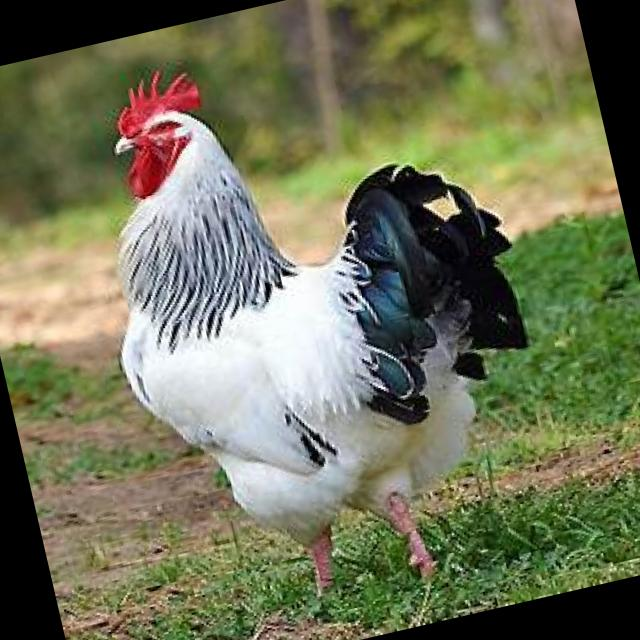animal: (58, 6, 574, 632)
